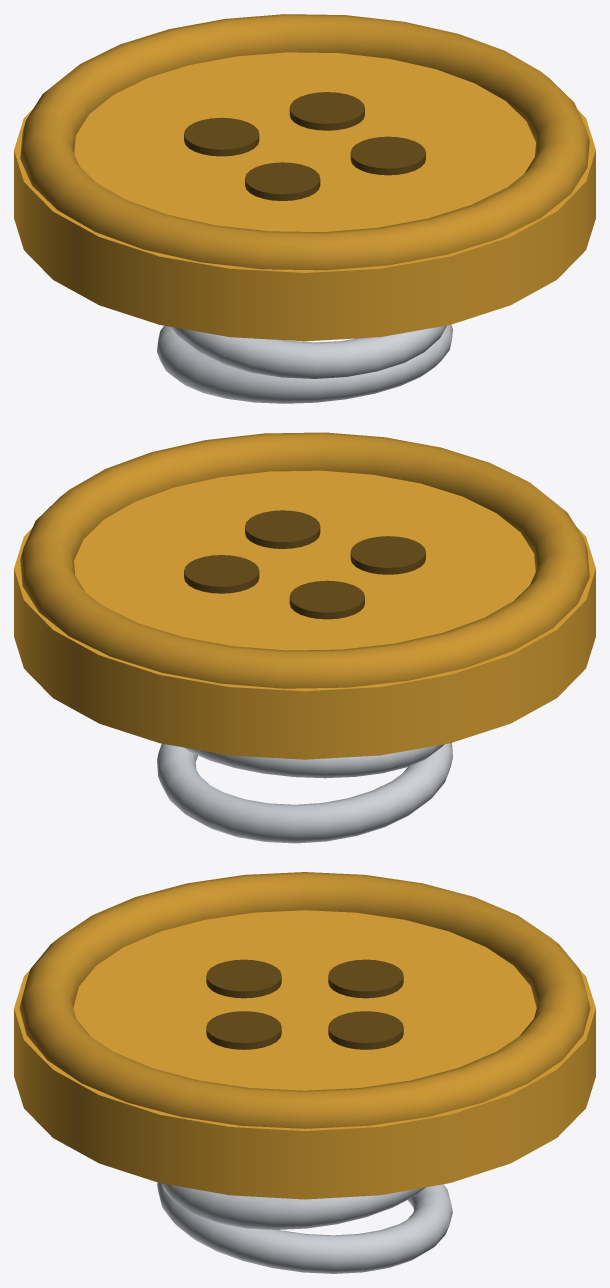
File: herramienta_boton.glb
The picture shows the model from 3 angles, top to bottom: view 1: azimuth 30°, elevation 25°; view 2: azimuth 150°, elevation 25°; view 3: azimuth 270°, elevation 25°; orthographic projection.
Visible parts, largest first — view 1: Botón, Reborde, Muelle [muelle] (×2), Agujero (×4); view 2: Botón, Reborde, Muelle [muelle] (×2), Agujero (×4); view 3: Botón, Reborde, Muelle [muelle] (×2), Agujero (×4).
Boxes of the visible parts, box(x1,y1,x2,y2) form: Botón: box(14, 52, 595, 341); Reborde: box(20, 14, 589, 270); Muelle [muelle] (×2): box(157, 324, 452, 403); Agujero (×4): box(184, 92, 425, 200); Botón: box(14, 470, 595, 759); Reborde: box(20, 432, 589, 688); Muelle [muelle] (×2): box(157, 743, 452, 843); Agujero (×4): box(184, 510, 425, 619); Botón: box(14, 910, 595, 1199); Reborde: box(19, 872, 590, 1128); Muelle [muelle] (×2): box(157, 1182, 452, 1273); Agujero (×4): box(206, 959, 403, 1049).
Bounding box in the file's own units: 0.54 × 0.2504 × 0.54.
